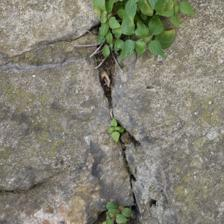Crack: (105, 123, 154, 222), (94, 49, 127, 120)
